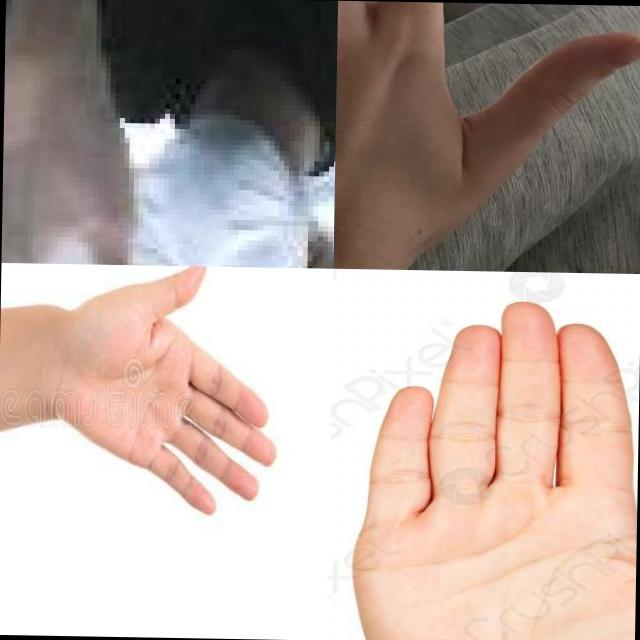Nail: (607, 36, 640, 69)
